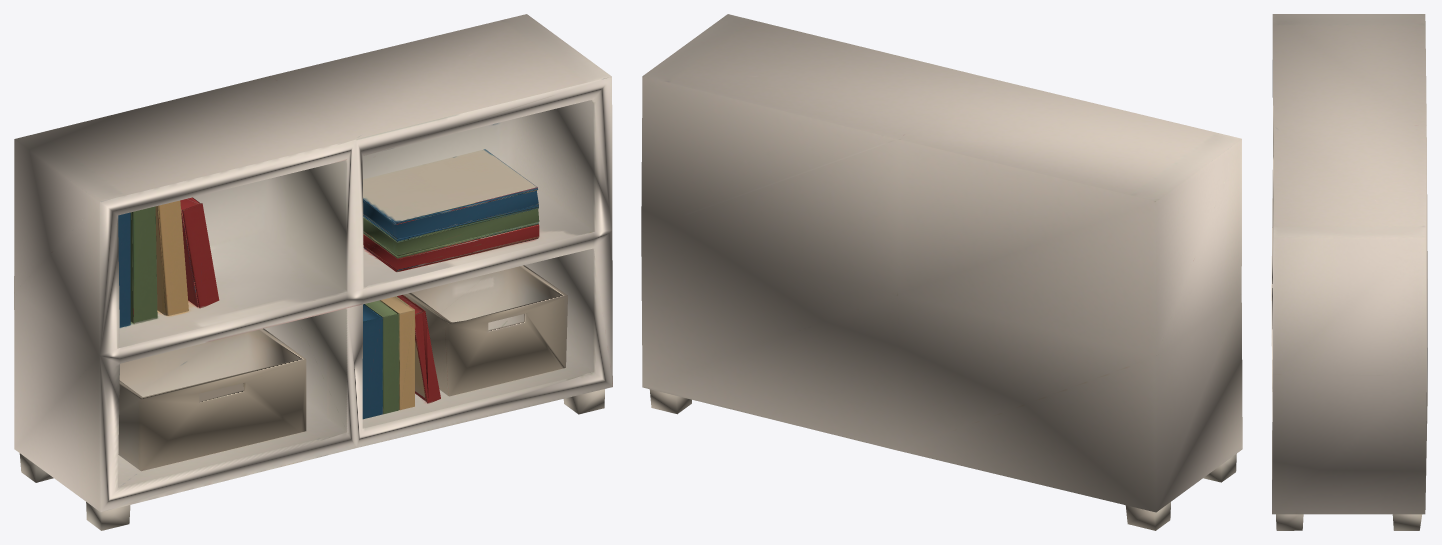
File: bookshelf.glb
3 renders of one model, left to right at view 1: azimuth 30°, elevation 25°; view 2: azimuth 150°, elevation 25°; view 3: azimuth 270°, elevation 25°, orthographic. The views are drawn at different scales.
Bounding box in the file's own units: 0.957 × 0.5918 × 0.2827.
Materials: 1 (1 with a texture image).
